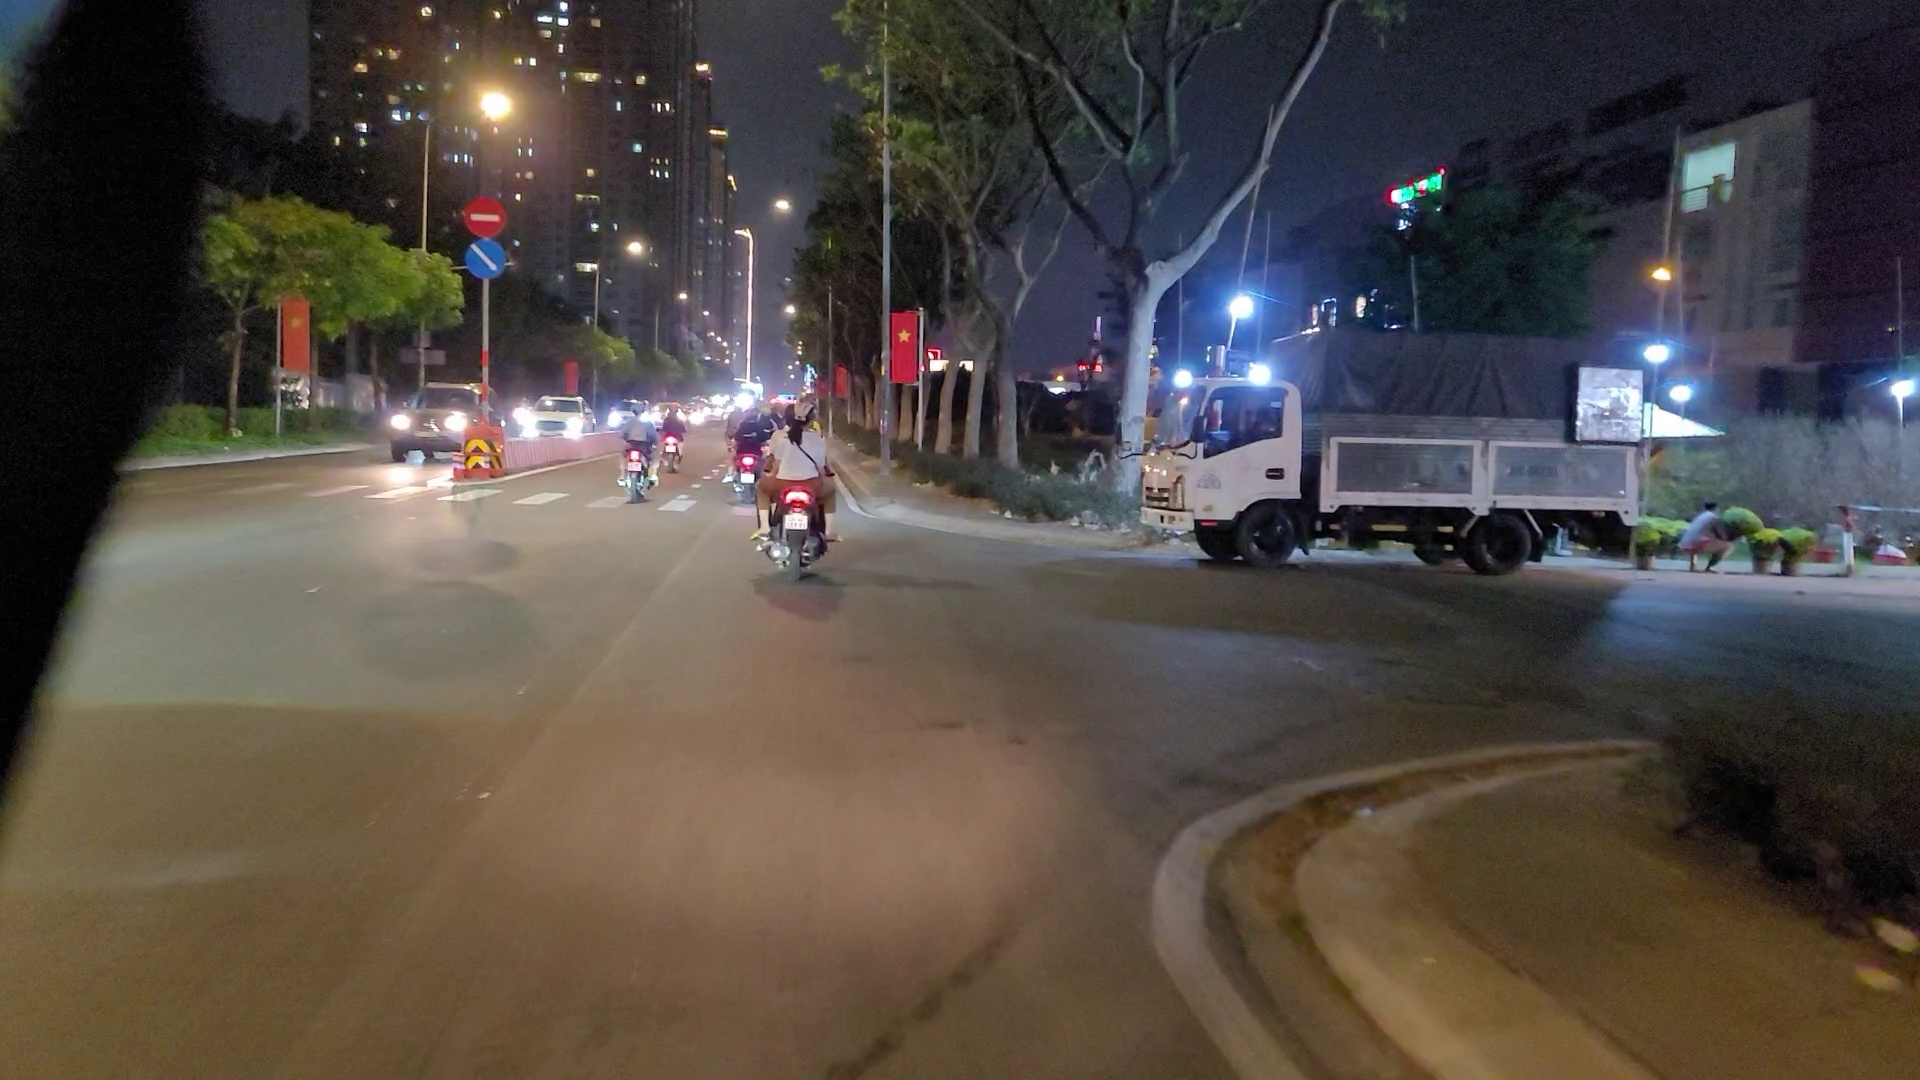Cam di nguoc chieu: (460, 191, 506, 239)
Huong di phai re phai: (463, 237, 502, 278)
